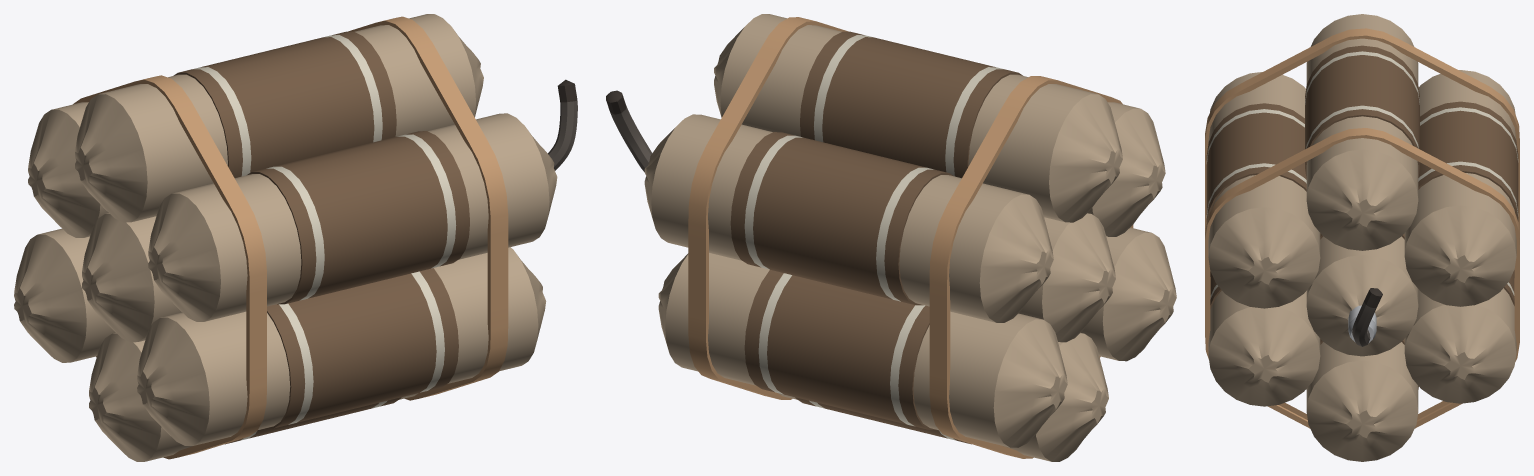
The model's file is dynamite_d_bundle_tan.glb.
The picture shows the model from 3 angles, left to right: view 1: azimuth 30°, elevation 25°; view 2: azimuth 150°, elevation 25°; view 3: azimuth 270°, elevation 25°; orthographic projection. The views are drawn at different scales.
Parts seen in each view (by area): view 1: Dynamite; view 2: Dynamite; view 3: Dynamite.
Boxes of the visible parts, <box> form: Dynamite: <box>14,14,577,461</box>; Dynamite: <box>606,14,1176,461</box>; Dynamite: <box>1205,14,1519,461</box>.
Bounding box in the file's own units: 0.7179 × 0.5054 × 0.4615.
